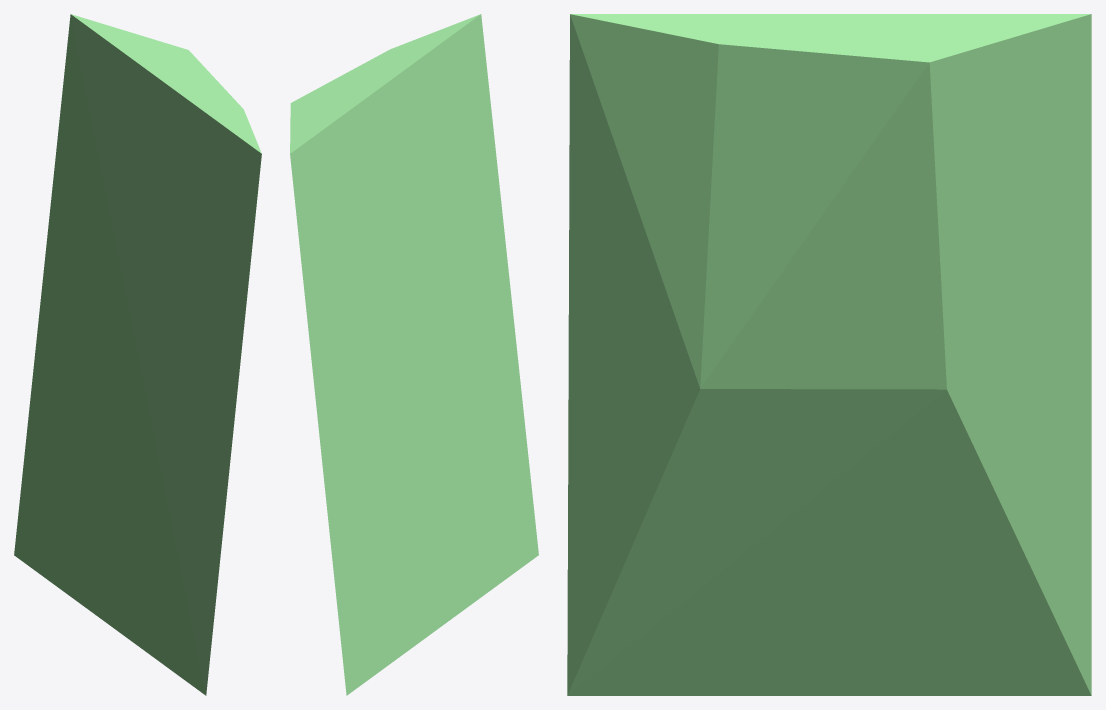
Rendered from UMIRobot_UMIRobot_link_2_convex_coll_33.dae.
3 renders of one model, left to right at view 1: azimuth 30°, elevation 25°; view 2: azimuth 150°, elevation 25°; view 3: azimuth 270°, elevation 25°, orthographic. The views are drawn at different scales.
Parts seen in each view (by area): view 1: node; view 2: node; view 3: node.
Boxes of the visible parts, x1,y1,x2,y2 form: node: (14,14,261,695); node: (290,14,538,695); node: (567,14,1091,695).
Bounding box in the file's own units: 0.00727 × 0.0318 × 0.021.
